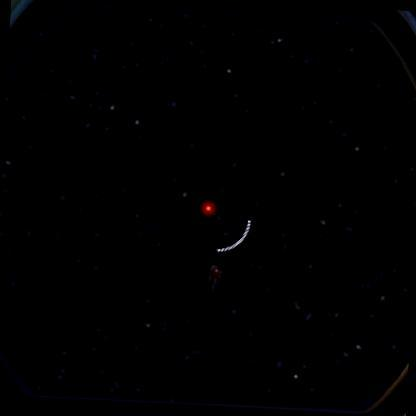person: (206, 258, 220, 288)
